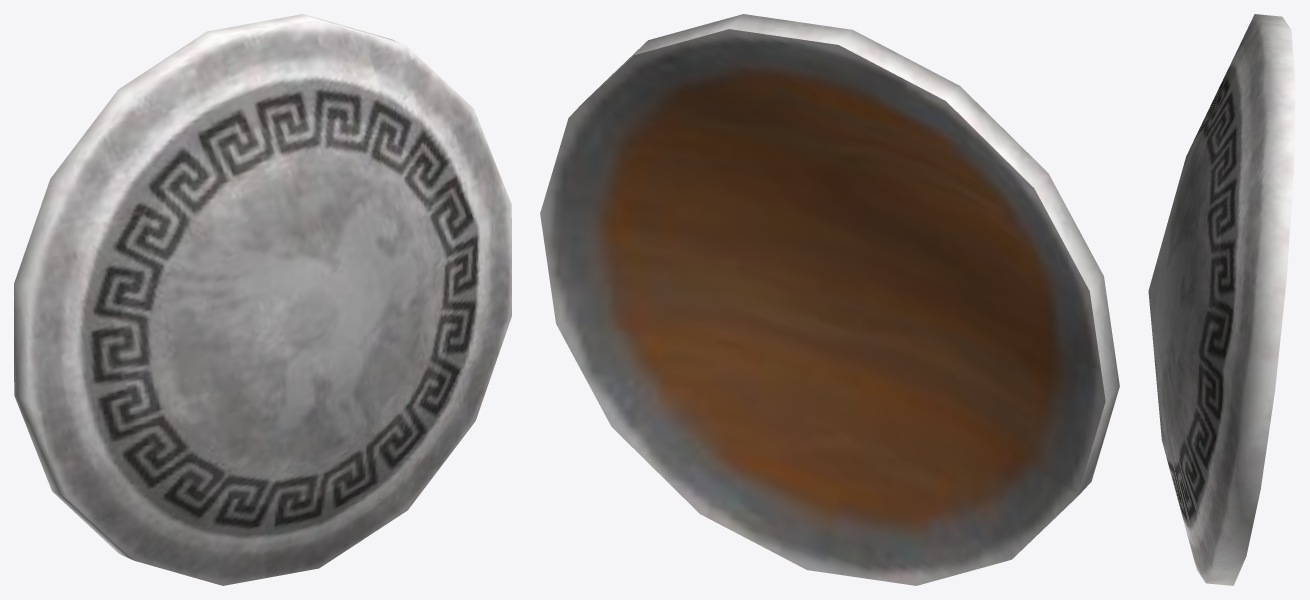
The model's file is shield-ironshields.glb.
3 renders of one model, left to right at view 1: azimuth 30°, elevation 25°; view 2: azimuth 150°, elevation 25°; view 3: azimuth 270°, elevation 25°, orthographic. The views are drawn at different scales.
Size of the model in its own units: 0.8556 by 0.8548 by 0.2211.
1 material, 1 textured.
